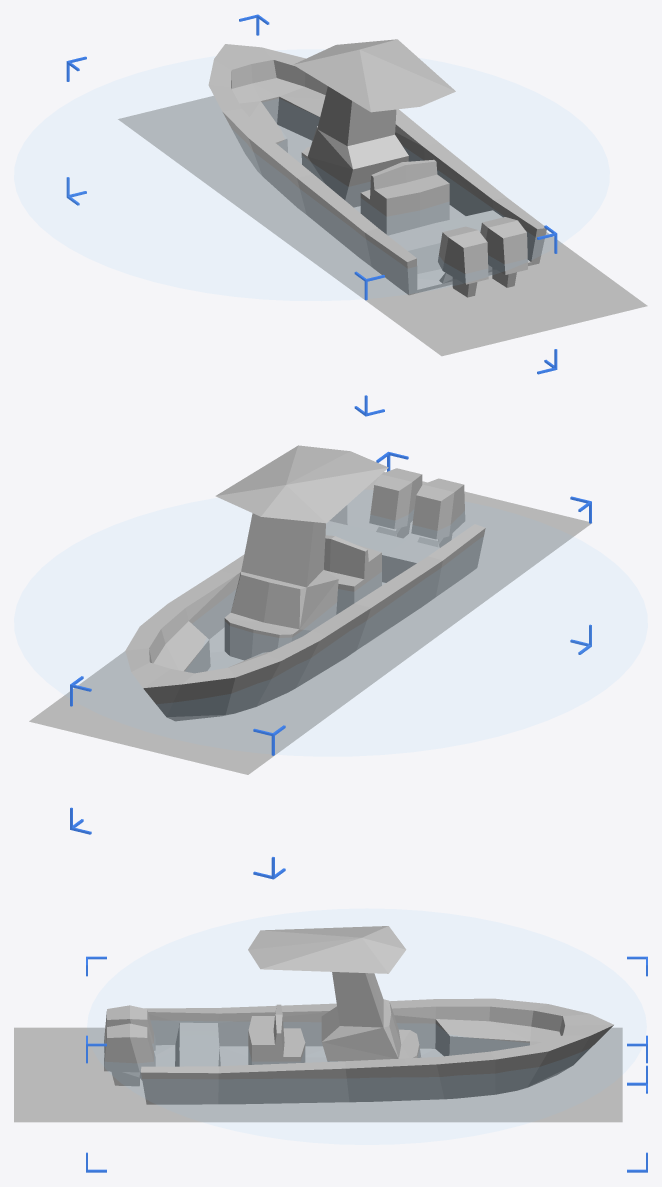
Rendered from CenterConsoleA.glb.
3 views of the same model, one above another, from view 1: azimuth 30°, elevation 25°; view 2: azimuth 150°, elevation 25°; view 3: azimuth 270°, elevation 25° (orthographic). The views are drawn at different scales.
Parts seen in each view (by area): view 1: AIS_CenterConsole-A002, SurfaceGraphic_whiteGlow001, BoundingBox; view 2: AIS_CenterConsole-A002, SurfaceGraphic_whiteGlow001, BoundingBox; view 3: AIS_CenterConsole-A002, SurfaceGraphic_whiteGlow001, BoundingBox.
Boxes of the visible parts, <box> form: AIS_CenterConsole-A002: <box>208,39,546,297</box>; SurfaceGraphic_whiteGlow001: <box>118,95,647,356</box>; BoundingBox: <box>66,14,557,416</box>; AIS_CenterConsole-A002: <box>125,445,485,721</box>; SurfaceGraphic_whiteGlow001: <box>29,472,592,774</box>; BoundingBox: <box>70,451,591,879</box>; AIS_CenterConsole-A002: <box>104,926,613,1104</box>; SurfaceGraphic_whiteGlow001: <box>14,1027,622,1122</box>; BoundingBox: <box>86,956,647,1172</box>.
Size of the model in its own units: 6.44 by 2.68 by 7.29.
